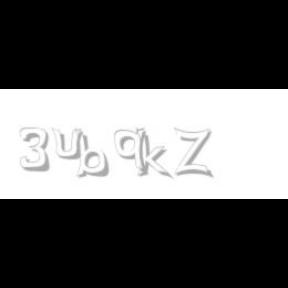3: (20, 128, 50, 172)
Z: (174, 128, 212, 178)
b: (74, 128, 112, 178)
k: (135, 128, 173, 180)
q: (114, 128, 150, 176)
u: (52, 128, 86, 160)
